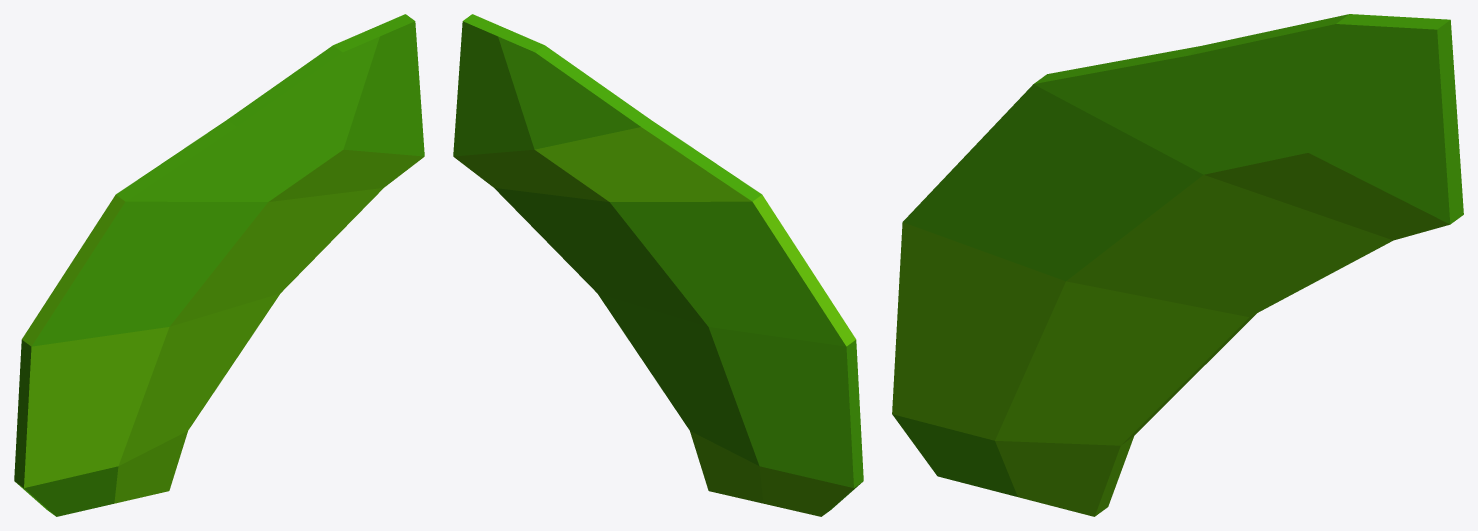
File: kelp.fbx
3 renders of one model, left to right at view 1: azimuth 30°, elevation 25°; view 2: azimuth 150°, elevation 25°; view 3: azimuth 330°, elevation 25°, orthographic. The views are drawn at different scales.
Visible parts, largest first — view 1: Cube; view 2: Cube; view 3: Cube.
Part boxes in pixels (bbox=[...]): Cube: bbox=[14, 14, 424, 516]; Cube: bbox=[453, 14, 863, 516]; Cube: bbox=[892, 14, 1463, 516].
Bounding box in the file's own units: 418 × 408 × 54.79.
